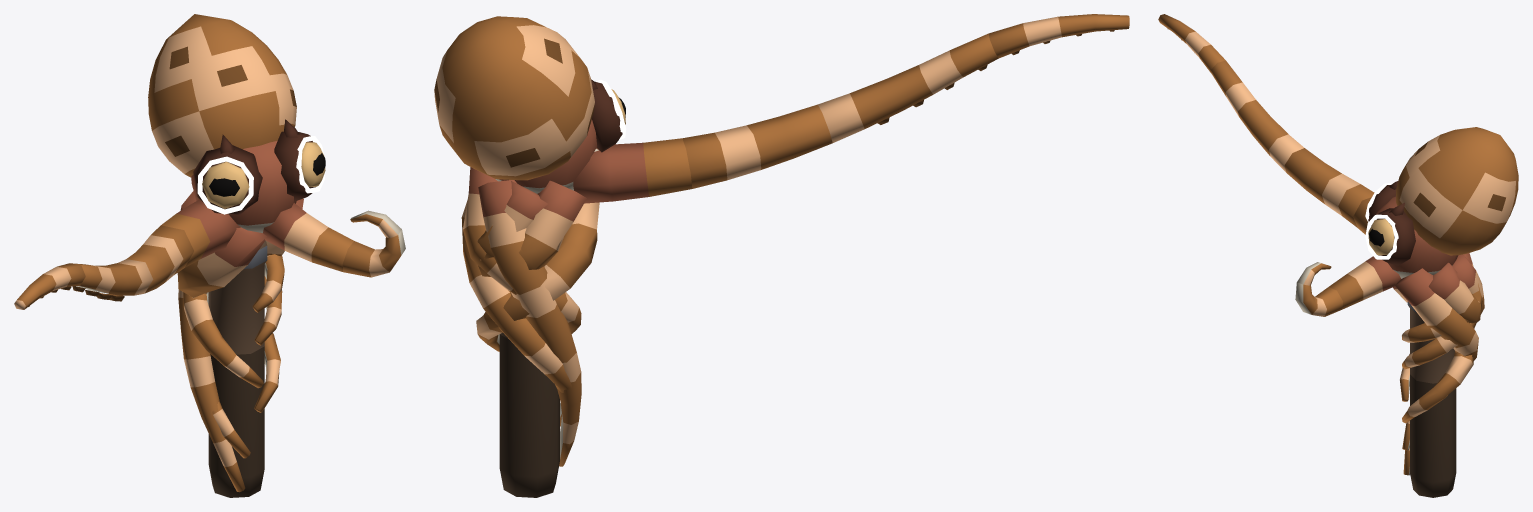
File: octopus-holdfast.glb
3 renders of one model, left to right at view 1: azimuth 30°, elevation 25°; view 2: azimuth 150°, elevation 25°; view 3: azimuth 270°, elevation 25°, orthographic. The views are drawn at different scales.
Parts seen in each view (by area): view 1: body, pulse_mantle, wave_arm2_1, wave_arm2_0, wave_arm1_0, blink_eye_r, wave_arm2_2, blink_eye_l, wave_arm1_1; view 2: body, pulse_mantle, wave_arm2_0, wave_arm2_1, wave_arm2_2; view 3: body, pulse_mantle, wave_arm2_1, wave_arm2_0, wave_arm2_2, wave_arm1_0, blink_eye_l.
Part boxes in pixels (x1,y1,x2,y2): body: (161,119,353,497); pulse_mantle: (148,14,296,177); wave_arm2_1: (71,259,153,301); wave_arm2_0: (127,225,193,293); wave_arm1_0: (342,230,405,277); blink_eye_r: (202,161,249,208); wave_arm2_2: (14,263,85,309); blink_eye_l: (301,142,325,186); wave_arm1_1: (350,210,401,237); body: (461,79,692,497); pulse_mantle: (434,16,594,180); wave_arm2_0: (682,104,832,188); wave_arm2_1: (818,33,998,142); wave_arm2_2: (988,14,1129,58); body: (1329,181,1484,497); pulse_mantle: (1396,127,1518,255); wave_arm2_1: (1211,60,1304,172); wave_arm2_0: (1284,148,1374,227); wave_arm2_2: (1158,14,1225,73); wave_arm1_0: (1295,282,1342,316); blink_eye_l: (1368,219,1394,255).
Bounding box in the file's own units: 1.18 × 1.06 × 0.9632.
